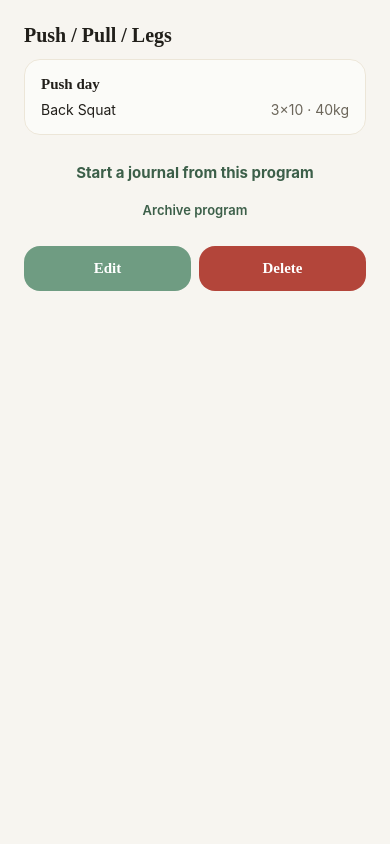
ProgramDetailScreen › shows an error in the delete sheet when deleting fails
What coordinates should you click on to do the following:
click the button with test id "program-detail-delete"
I would click on:
 (282, 268)
Its box is [199,246,366,291].
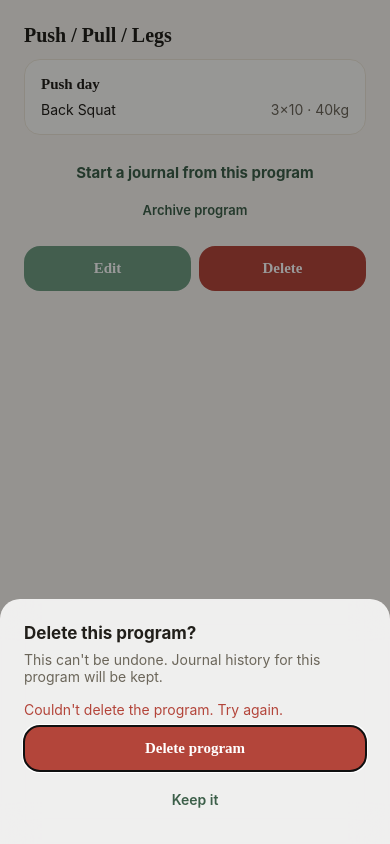
expect the text "Couldn't delete the program. Try again." is shown: met, box [24,701,283,718]
